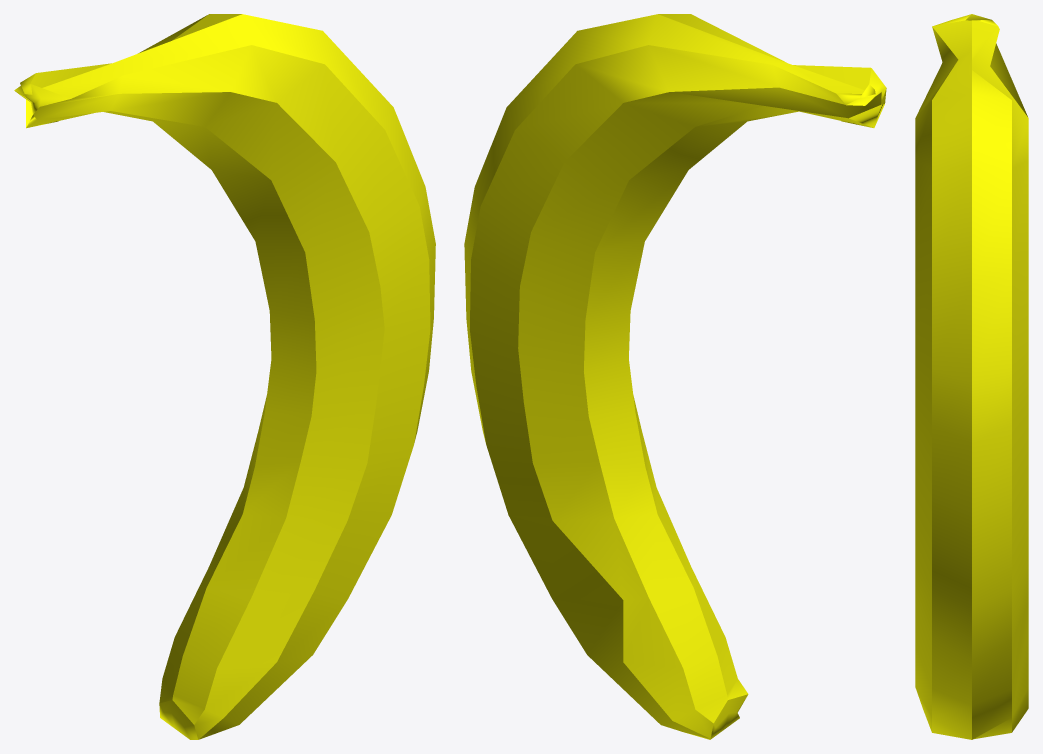
The model's file is Banana.fbx.
The picture shows the model from 3 angles, left to right: view 1: azimuth 30°, elevation 25°; view 2: azimuth 150°, elevation 25°; view 3: azimuth 270°, elevation 25°; orthographic projection. The views are drawn at different scales.
Parts seen in each view (by area): view 1: pCylinder1; view 2: pCylinder1; view 3: pCylinder1.
Boxes of the visible parts, x1=… form: pCylinder1: x1=14, y1=14, x2=435, y2=739; pCylinder1: x1=464, y1=14, x2=886, y2=739; pCylinder1: x1=915, y1=14, x2=1028, y2=739.
Bounding box in the file's own units: 4.95 × 8.1 × 1.25.
